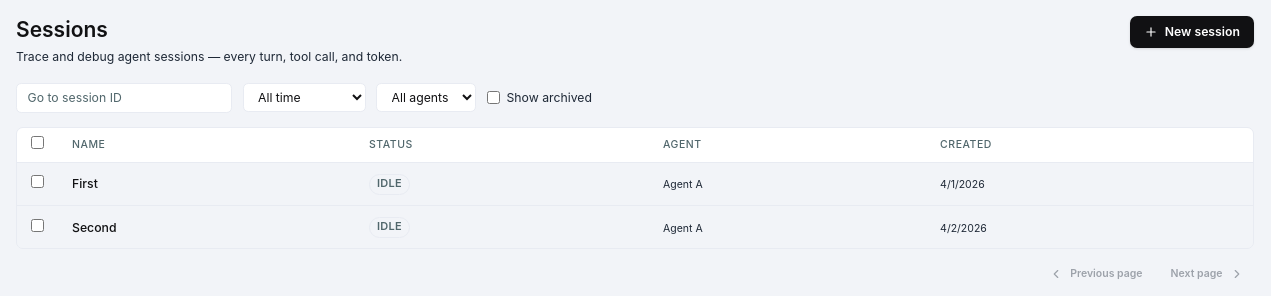
Test case: SessionsListPage › shows 'Archive N selected' after checking a row
The width and height of the screenshot is (1271, 296).
expect the text "First" is shown: met, box [72,176,98,191]
Click the checkbox next to "First": (38, 182) [31,175,44,188]
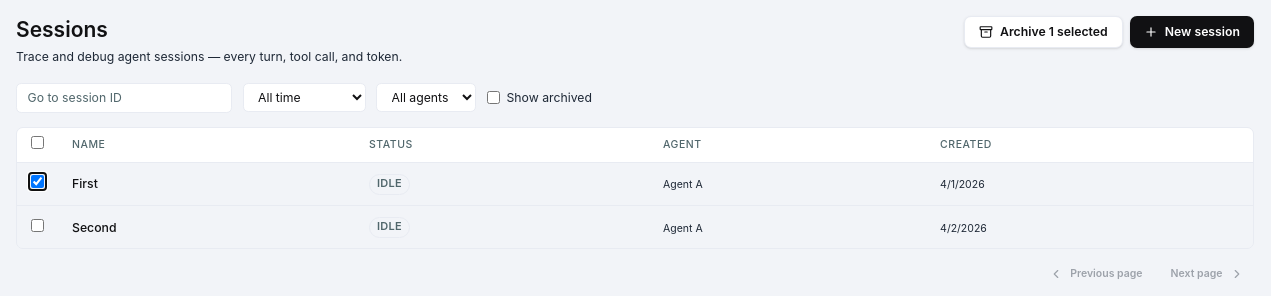
expect the button "Archive 1 selected" is shown: met, box [964,16,1123,48]
